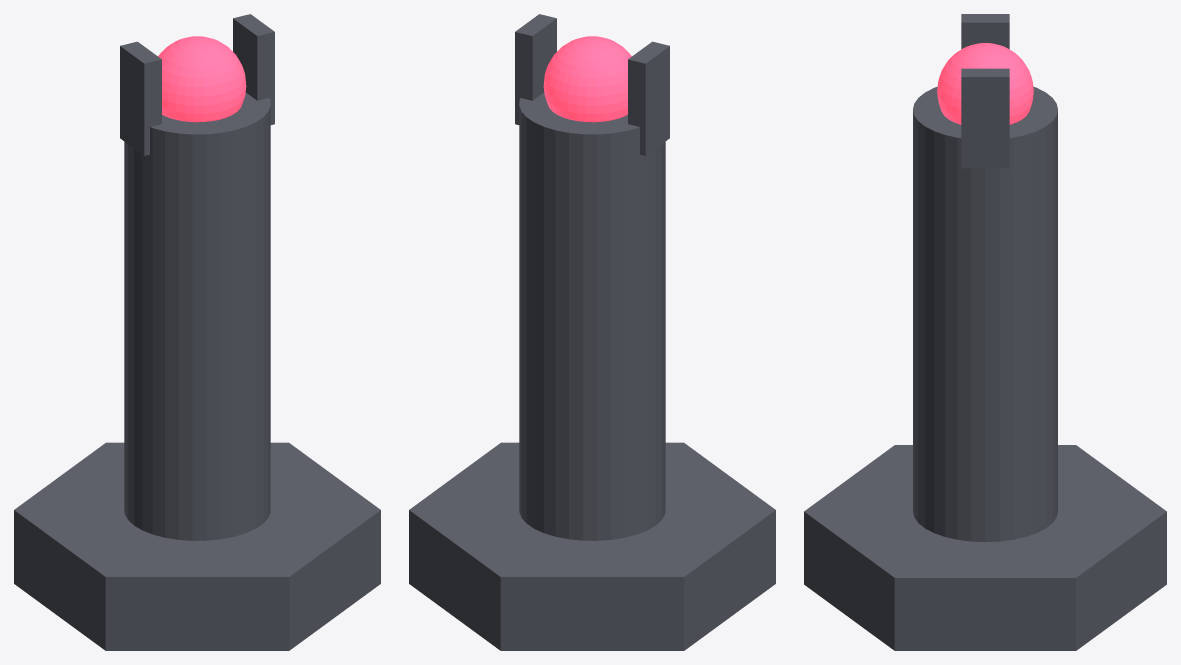
The model's file is hazard_pylon.glb.
The picture shows the model from 3 angles, left to right: view 1: azimuth 30°, elevation 25°; view 2: azimuth 150°, elevation 25°; view 3: azimuth 270°, elevation 25°; orthographic projection.
Visible parts, largest first — view 1: PylonPost, PylonBase, PylonCore, Prong_L, Prong_R; view 2: PylonPost, PylonBase, PylonCore, Prong_L, Prong_R; view 3: PylonPost, PylonBase, Prong_R, PylonCore, Prong_L.
Boxes of the visible parts, x1,y1,x2,y2 form: PylonPost: (124, 92, 270, 540); PylonBase: (14, 442, 380, 650); PylonCore: (158, 36, 246, 122); Prong_L: (120, 41, 161, 155); Prong_R: (233, 14, 274, 124); PylonPost: (519, 92, 665, 540); PylonBase: (409, 442, 775, 650); PylonCore: (543, 36, 631, 122); Prong_L: (628, 41, 669, 155); Prong_R: (515, 14, 556, 124); PylonPost: (913, 86, 1057, 541); PylonBase: (804, 445, 1166, 650); Prong_R: (961, 68, 1009, 168); PylonCore: (937, 43, 1033, 124); Prong_L: (961, 14, 1009, 49).
Bounding box in the file's own units: 0.7794 × 1.48 × 0.9.
